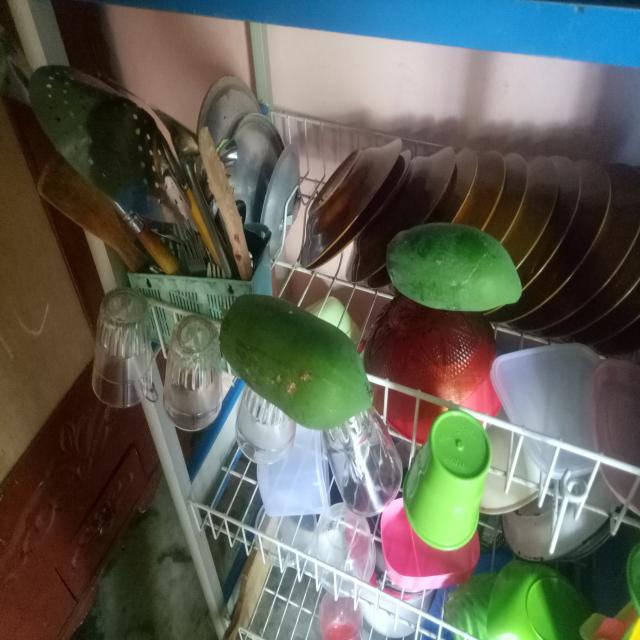Pepaya unrippen: (210, 286, 374, 436), (374, 209, 522, 327)
